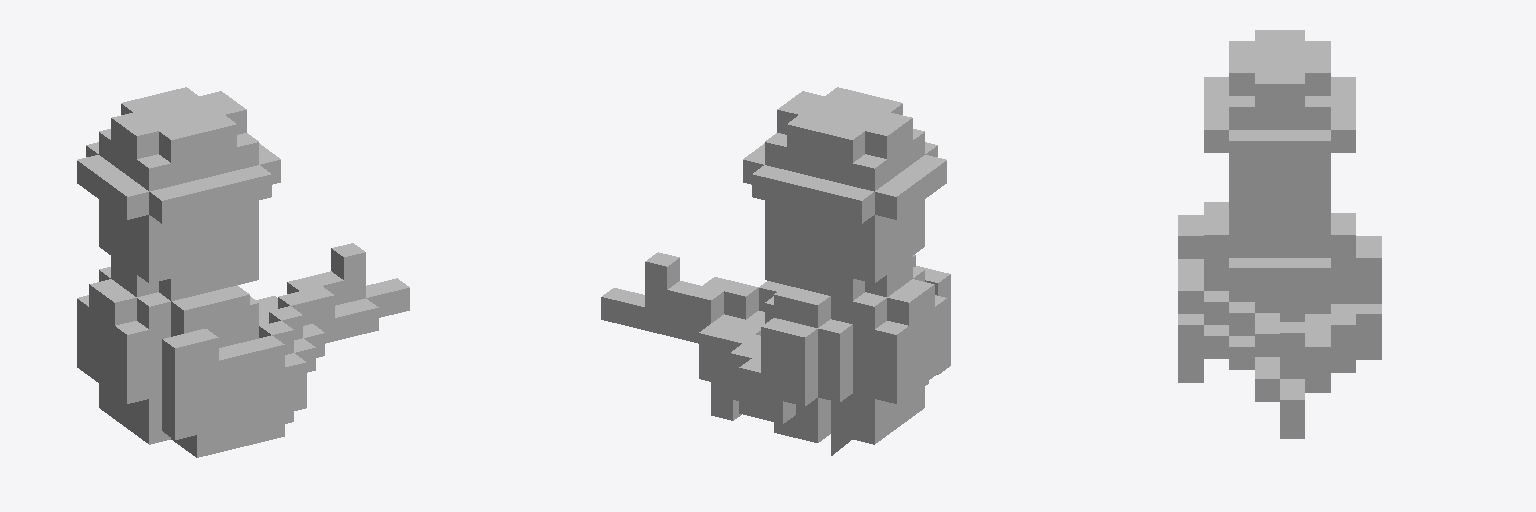
The model's file is hamster_body.obj.
3 renders of one model, left to right at view 1: azimuth 30°, elevation 25°; view 2: azimuth 150°, elevation 25°; view 3: azimuth 270°, elevation 25°, orthographic.
Visible parts, largest first — view 1: Body; view 2: Body; view 3: Body.
Boxes of the visible parts, x1=… form: Body: x1=77, y1=87, x2=409, y2=457; Body: x1=601, y1=87, x2=950, y2=455; Body: x1=1178, y1=30, x2=1381, y2=438.
Bounding box in the file's own units: 1.4 × 1.4 × 0.8.